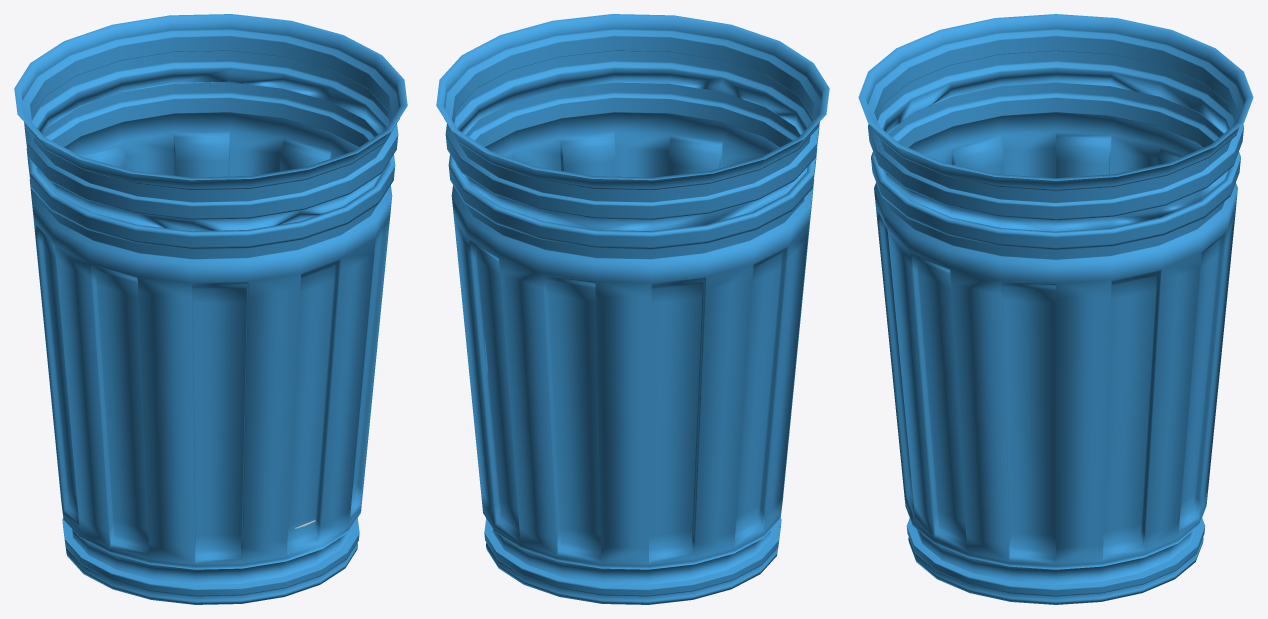
The model's file is boteazul.dae.
The picture shows the model from 3 angles, left to right: view 1: azimuth 30°, elevation 25°; view 2: azimuth 150°, elevation 25°; view 3: azimuth 270°, elevation 25°; orthographic projection.
Parts seen in each view (by area): view 1: Cylinder; view 2: Cylinder; view 3: Cylinder.
Boxes of the visible parts, x1,y1,x2,y2 form: Cylinder: (14, 14, 407, 604); Cylinder: (436, 14, 829, 604); Cylinder: (858, 14, 1253, 604).
Bounding box in the file's own units: 2.07 × 2.07 × 2.57.
